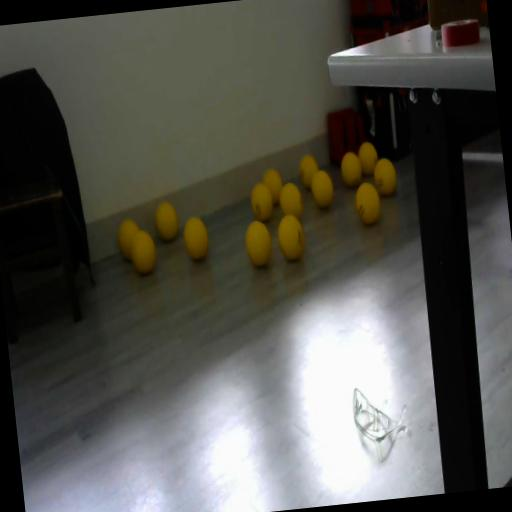FUEL: (242, 217, 274, 269), (274, 212, 306, 262), (127, 228, 159, 277), (181, 214, 211, 262), (354, 180, 382, 226), (277, 180, 305, 222), (153, 200, 180, 242), (372, 156, 399, 197), (310, 168, 336, 210), (338, 149, 364, 189), (262, 166, 286, 206), (357, 140, 380, 176)
